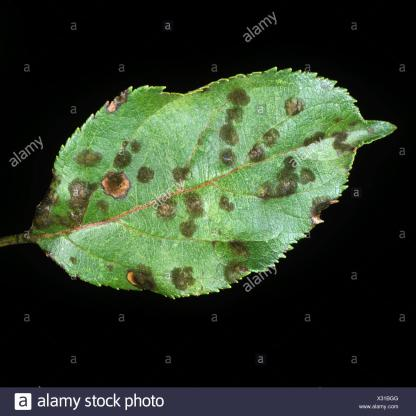apple scab leaf: (19, 58, 406, 304)
